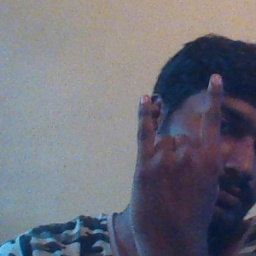V: (129, 68, 232, 248)
